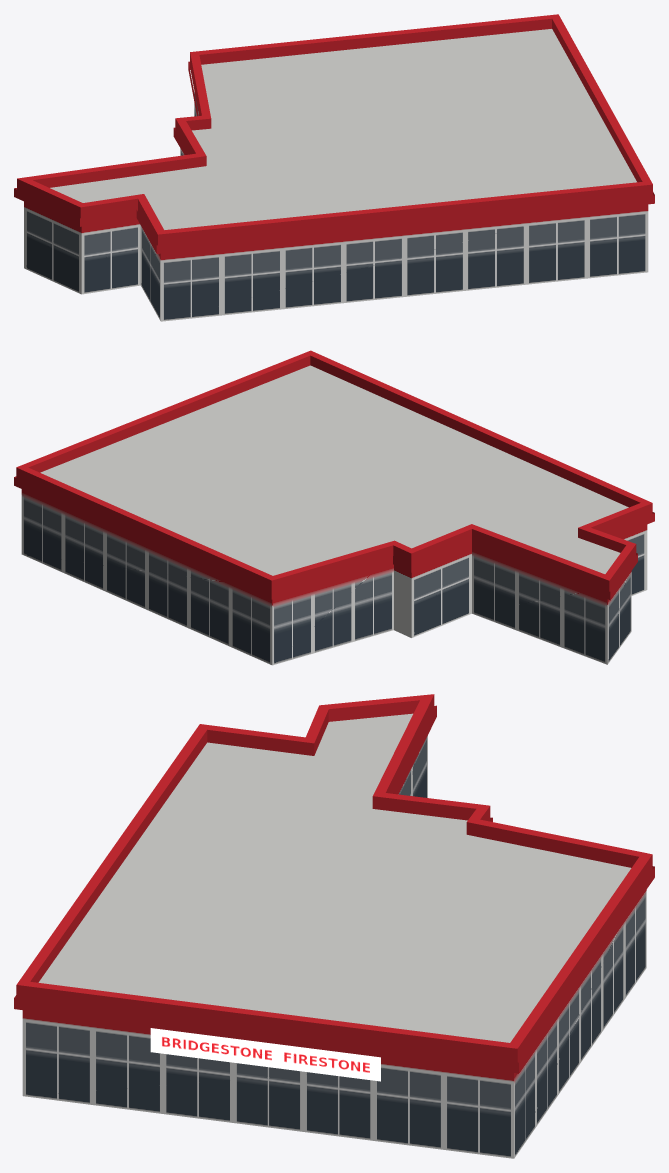
Rendered from firestone_noord.glb.
3 views of the same model, one above another, from view 1: azimuth 30°, elevation 25°; view 2: azimuth 150°, elevation 25°; view 3: azimuth 270°, elevation 25° (orthographic). The views are drawn at different scales.
Parts seen in each view (by area): view 1: firestone_noord_lod0; view 2: firestone_noord_lod0; view 3: firestone_noord_lod0.
Part boxes in pixels (x1,y1,x2,y2): firestone_noord_lod0: (14,14,654,321); firestone_noord_lod0: (14,350,654,665); firestone_noord_lod0: (14,694,654,1158).
Size of what is drawn, in the model's own units: 42.1 by 6.2 by 31.96.
Materials: 4 (2 with a texture image).
